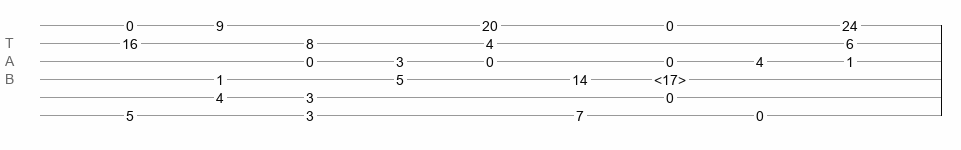0: (126, 18, 134, 28), (306, 54, 314, 64), (486, 54, 494, 64), (666, 90, 674, 100), (666, 54, 674, 64), (666, 18, 674, 28), (756, 108, 764, 118)
1: (216, 72, 224, 82), (846, 54, 854, 64)
14: (572, 72, 588, 82)
16: (122, 36, 138, 46)
20: (482, 18, 498, 28)
24: (842, 18, 858, 28)
3: (306, 90, 314, 100), (306, 108, 314, 118), (396, 54, 404, 64)
4: (216, 90, 224, 100), (486, 36, 494, 46), (756, 54, 764, 64)
5: (126, 108, 134, 118), (396, 72, 404, 82)
6: (846, 36, 854, 46)
7: (576, 108, 584, 118)
8: (306, 36, 314, 46)
9: (216, 18, 224, 28)
harmonic: (654, 72, 686, 82)
